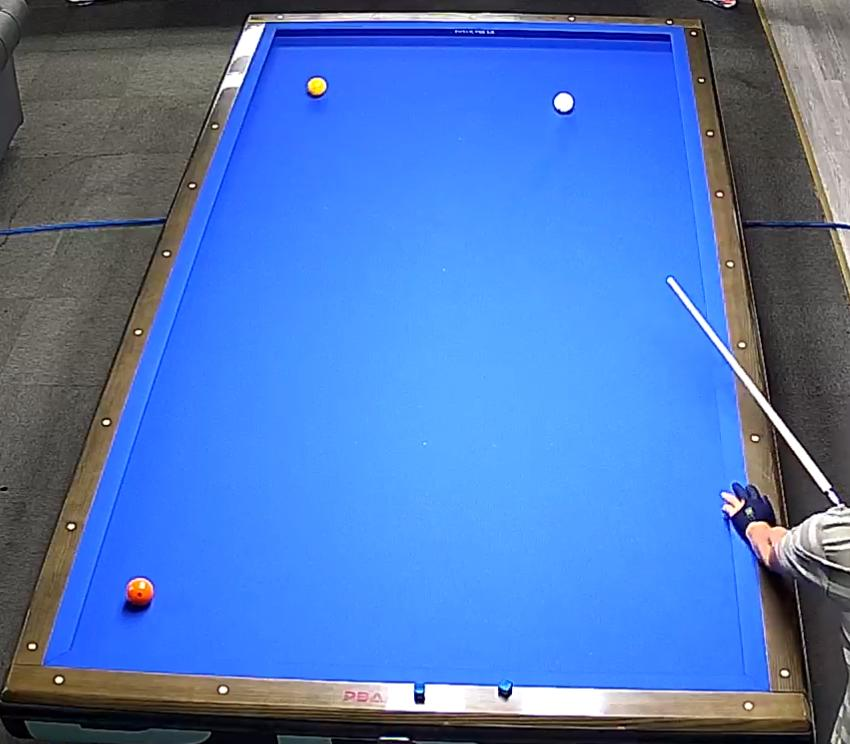orange ball: (119, 571, 163, 624)
white ball: (549, 87, 579, 119)
yellow ball: (299, 73, 334, 103)
